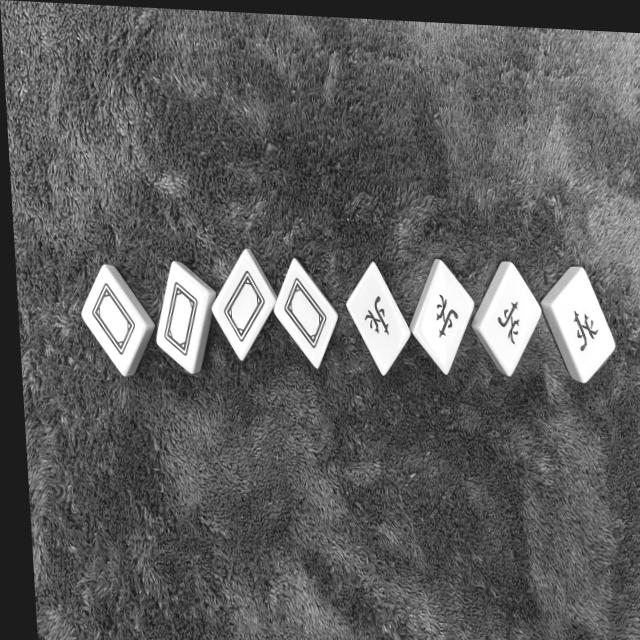bai: (208, 246, 281, 360), (78, 264, 151, 375), (150, 260, 219, 375), (270, 260, 341, 371)
north: (408, 258, 478, 374), (548, 267, 617, 384), (475, 262, 545, 376), (349, 265, 405, 363)
